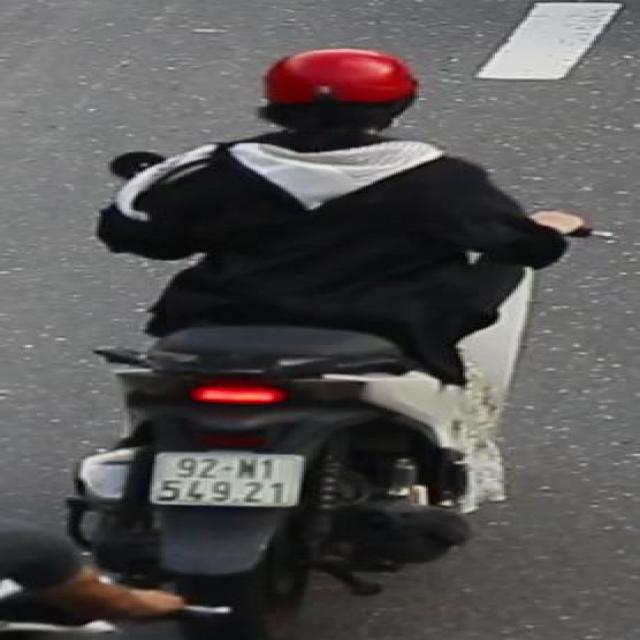LP: (138, 448, 309, 511)
helmet: (240, 42, 424, 150)
